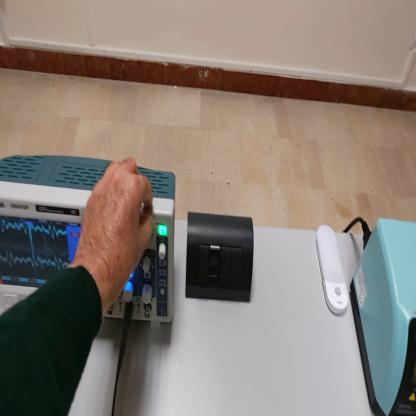hand: (76, 158, 155, 307)
oscilloscope: (1, 158, 179, 333)
welder station: (352, 224, 416, 415)
